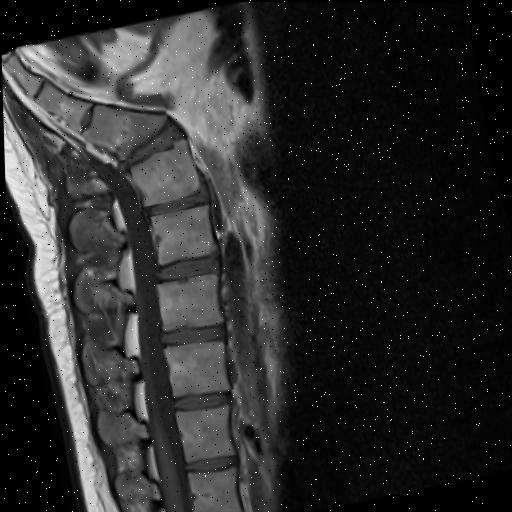L1: (171, 404, 228, 460)
L2: (160, 339, 225, 395)
L3: (155, 273, 218, 329)
L4: (148, 204, 211, 263)
L5: (128, 138, 197, 205)
S1: (79, 104, 165, 160)
